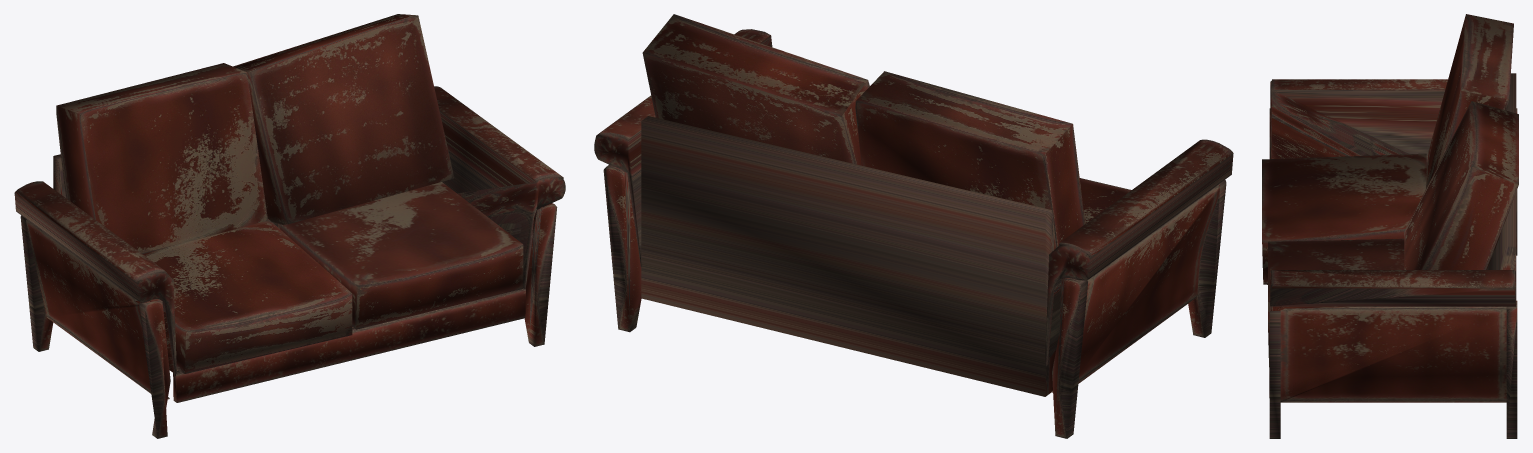
The model's file is Couch_Lowpoly.fbx.
3 views of the same model, side by side, from view 1: azimuth 30°, elevation 25°; view 2: azimuth 150°, elevation 25°; view 3: azimuth 270°, elevation 25° (orthographic). The views are drawn at different scales.
Parts seen in each view (by area): view 1: Sofa_02; view 2: Sofa_02; view 3: Sofa_02.
Part boxes in pixels (x1=…): Sofa_02: x1=14, y1=14, x2=565, y2=438; Sofa_02: x1=594, y1=14, x2=1233, y2=438; Sofa_02: x1=1262, y1=14, x2=1518, y2=438.
Bounding box in the file's own units: 301 × 175 × 157.
